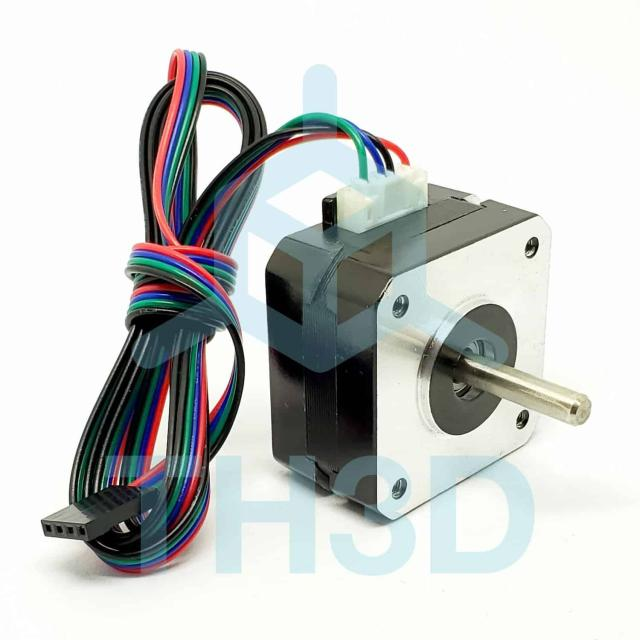motor: (40, 49, 593, 578)
